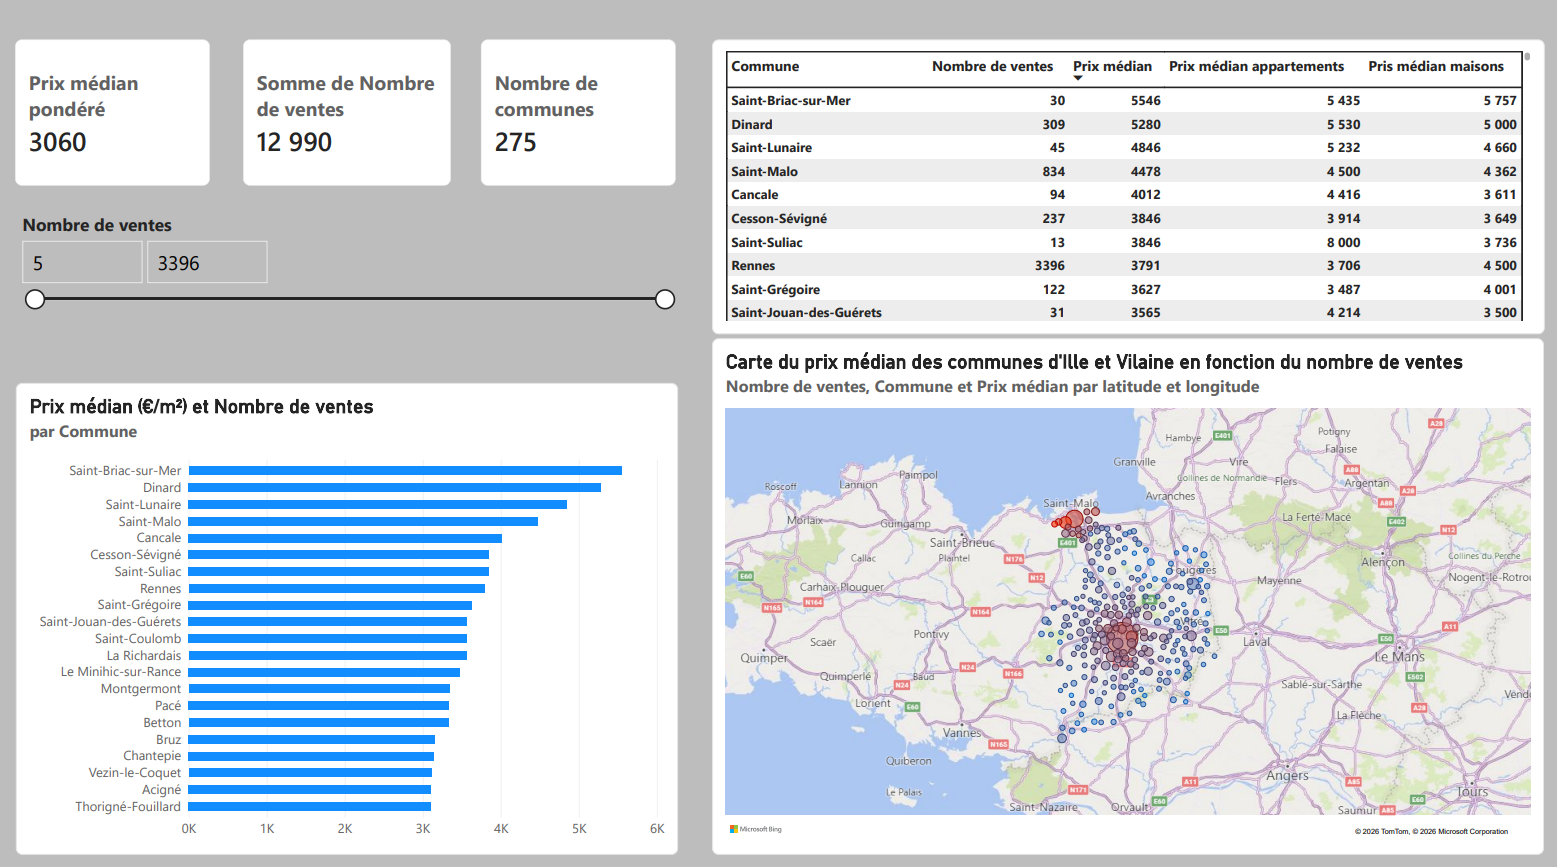

What the dashboard file says about the page in this screenshot:
{"tool":"powerbi","page":{"name":"Prix de l'immobilier en Ille-et-Vilaine — 2025","canvas":[1920,1080],"ordinal":0},"visuals":[{"type":"clusteredBarChart","fields":{"Category":["prix_m2_communes_35_2025.nom_commune"],"Y":["Avg(prix_m2_communes_35_2025.prix_median)"]},"box":[19,471.2,815.6,580.7],"z":0},{"type":"cardVisual","fields":{"Data":["prix_m2_communes_35_2025.Prix médian pondéré"]},"box":[17.5,48.1,241.3,133.3],"z":1000},{"type":"cardVisual","fields":{"Data":["Sum(prix_m2_communes_35_2025.nb_ventes)"]},"box":[299.1,48.1,256.4,133.3],"z":2000},{"type":"cardVisual","fields":{"Data":["prix_m2_communes_35_2025.Nombre de communes"]},"box":[592.3,48.1,241.3,133.3],"z":3000},{"type":"tableEx","fields":{"Values":["prix_m2_communes_35_2025.Commune","prix_m2_communes_35_2025.Nombre de ventes","prix_m2_communes_35_2025.prix_median","prix_m2_communes_35_2025.prix_median_appartement","prix_m2_communes_35_2025.prix_median_maison"]},"box":[876.8,48.1,1026.4,362.8],"z":4000},{"type":"map","title":"Carte du prix médian des communes d''Ille et Vilaine en fonction du nombre de ventes","fields":{"Size":["Sum(prix_m2_communes_35_2025.Nombre de ventes)"],"X":["prix_m2_communes_35_2025.longitude"],"Y":["prix_m2_communes_35_2025.latitude"]},"box":[876.8,415.8,1025.7,636.1],"z":5000},{"type":"slicer","fields":{"Values":["prix_m2_communes_35_2025.Nombre de ventes"]},"box":[19,261.2,815.6,150.3],"z":6000}]}

Visuals, with their boxes in screenshot pixels (x1, y1, x2, y2), scaled from the page's 1920x1080 canvas onto the 1557x867 screenshot:
clusteredBarChart - prix_m2_communes_35_2025.nom_commune x Avg(prix_m2_communes_35_2025.prix_median): [15,378,677,844]
cardVisual - prix_m2_communes_35_2025.Prix médian pondéré: [14,39,210,146]
cardVisual - Sum(prix_m2_communes_35_2025.nb_ventes): [243,39,450,146]
cardVisual - prix_m2_communes_35_2025.Nombre de communes: [480,39,676,146]
tableEx - prix_m2_communes_35_2025.Commune x prix_m2_communes_35_2025.Nombre de ventes: [711,39,1543,330]
"Carte du prix médian des communes d''Ille et Vilaine en fonction du nombre de ventes" map: [711,334,1543,844]
slicer - prix_m2_communes_35_2025.Nombre de ventes: [15,210,677,330]
